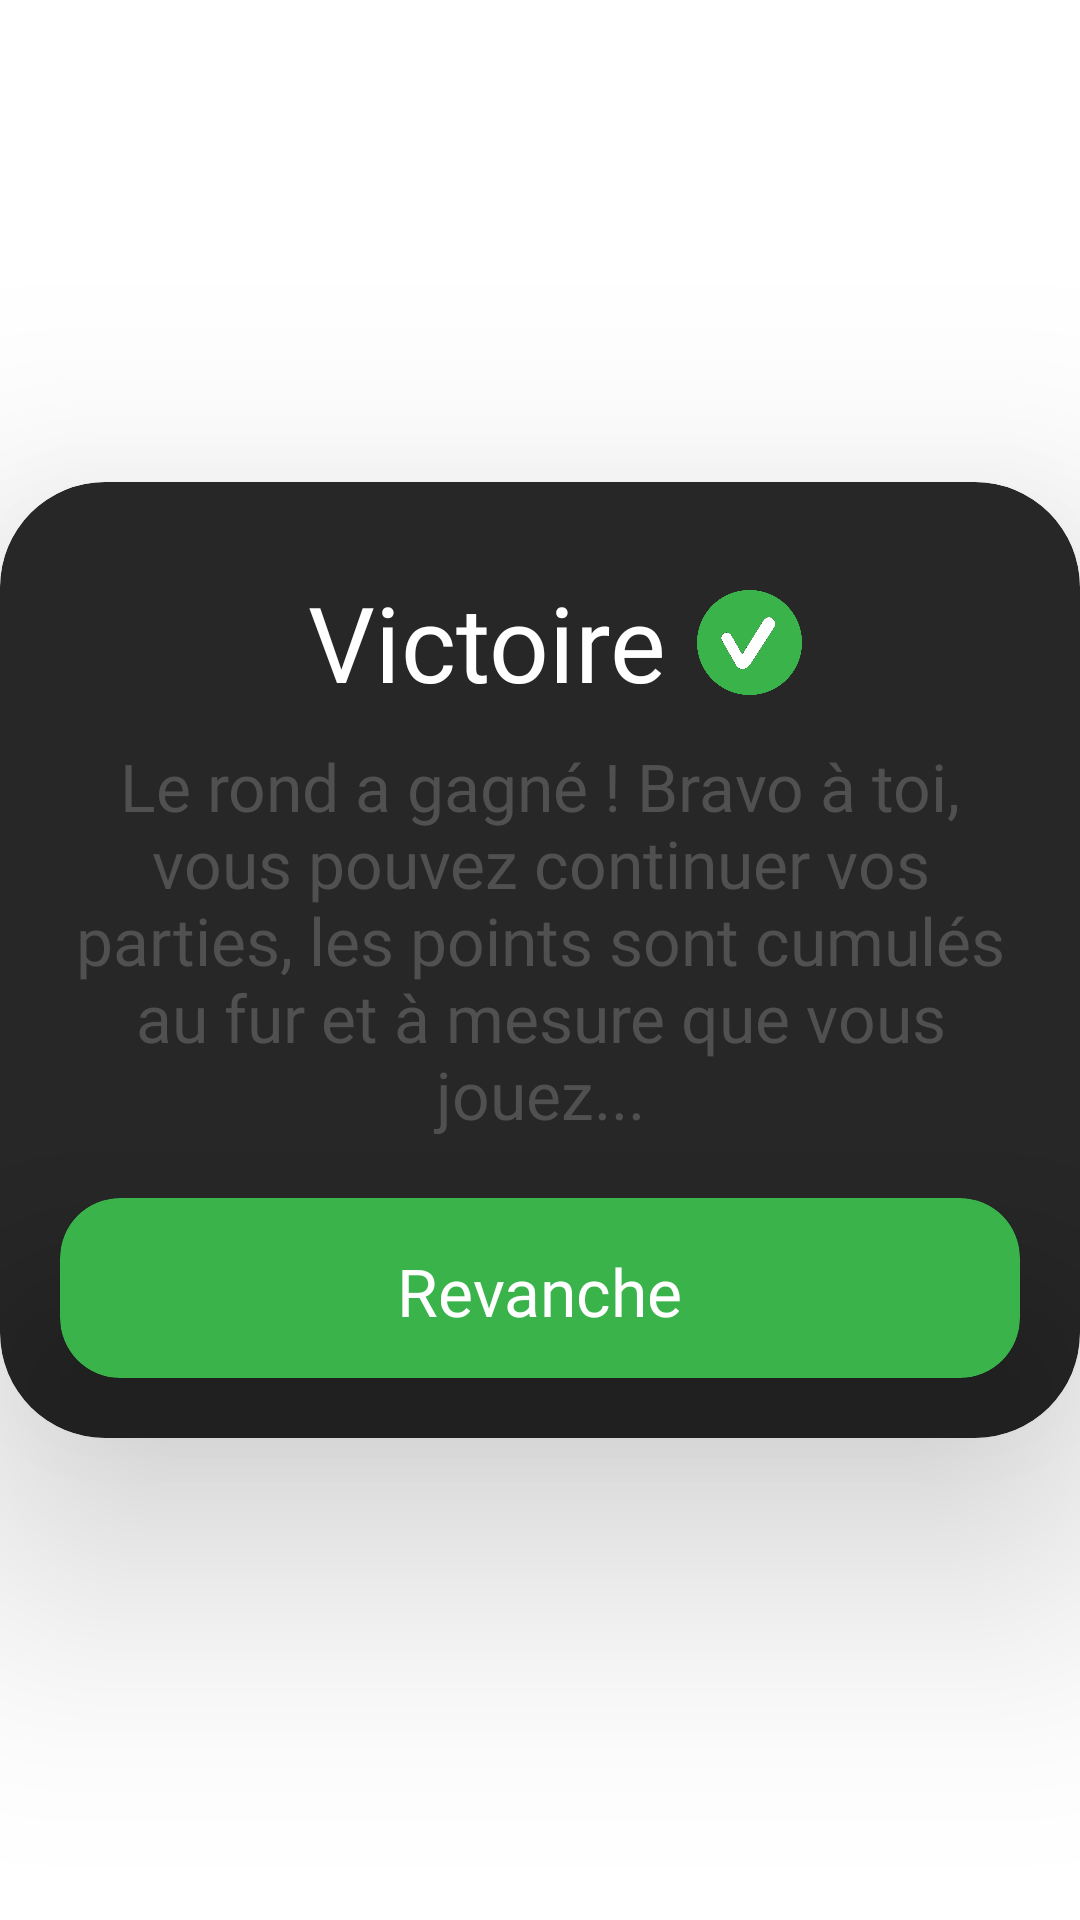

Named icons in this screenshot (1080w x 1920h) and their centers, (x=x, y=y):
valide: (x=749, y=642)
